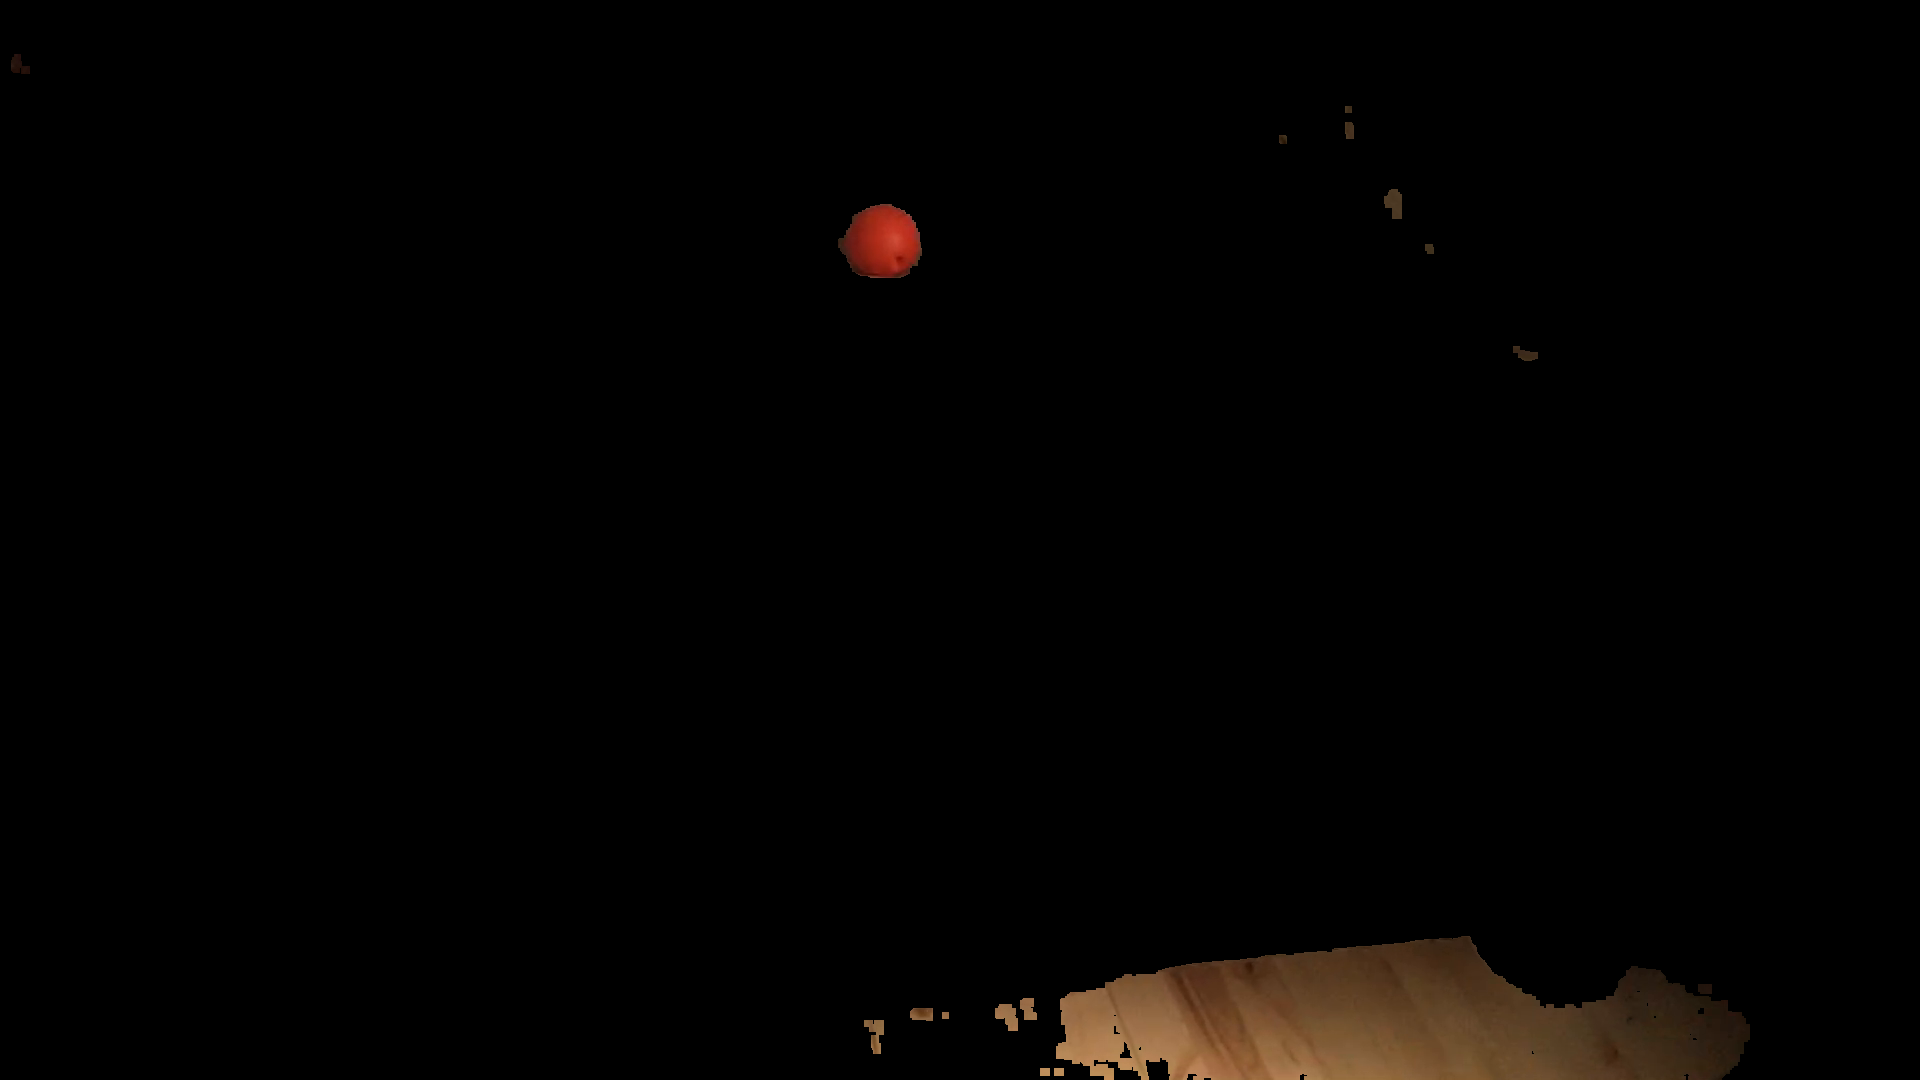Ball: (848, 204, 920, 276)
